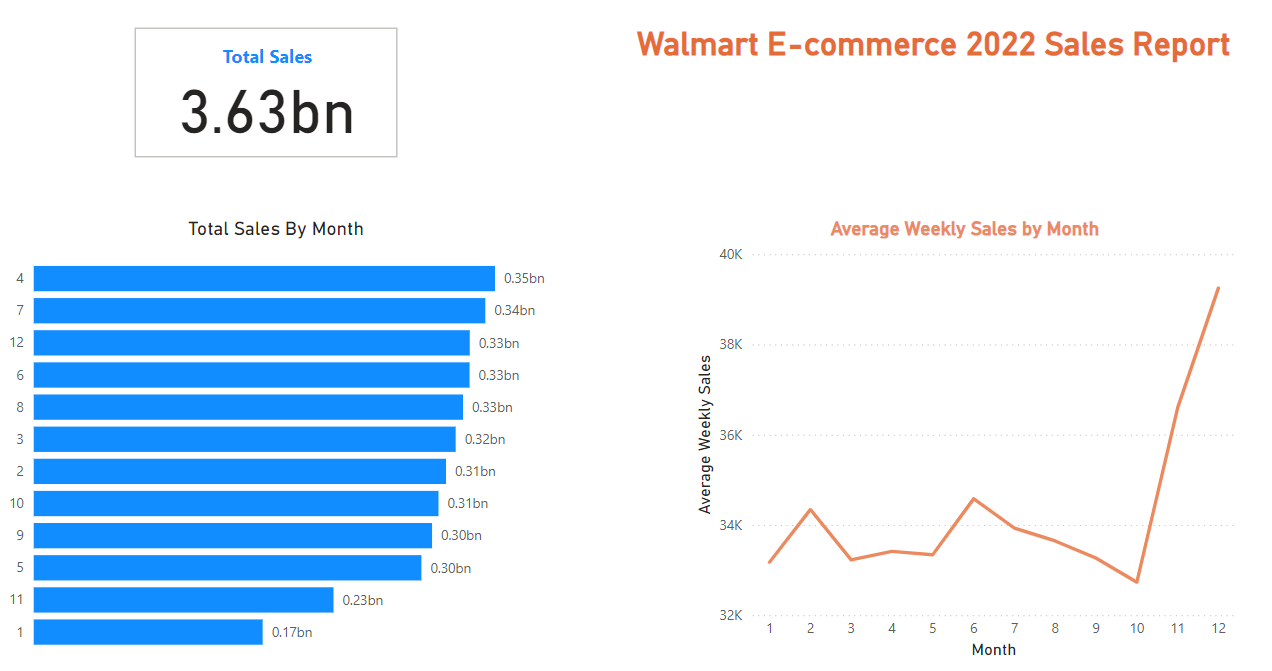

This screenshot's page, from the dashboard's own definition file:
{"tool":"powerbi","page":{"name":"Page 1","canvas":[1280,720],"ordinal":0},"visuals":[{"type":"clusteredBarChart","title":"Total Sales By Month","fields":{"Category":["clean_data.Month"],"Y":["Sum(clean_data.Weekly_Sales)"]},"box":[20.4,263.3,487.7,396.4],"z":0},{"type":"lineChart","fields":{"Y":["Sum(agg_data.Avg_Weekly_Sales)"],"Category":["agg_data.Month"]},"box":[631.3,263.3,487.7,396.4],"z":1},{"type":"cardVisual","fields":{"Data":["Sum(clean_data.Weekly_Sales)"]},"box":[133.9,90.4,243.8,125.9],"z":2},{"type":"textbox","box":[579,87.8,603,65.6],"z":3}]}

Visuals, with their boxes on the page's 1280x720 design canvas (x1, y1, x2, y2). These are canvas units, not pixel positions in the 1272x671 screenshot, which may show the page scaled, cropped or inside an application window:
"Total Sales By Month" clusteredBarChart: Rect(20, 263, 508, 660)
lineChart - Sum(agg_data.Avg_Weekly_Sales) x agg_data.Month: Rect(631, 263, 1119, 660)
cardVisual - Sum(clean_data.Weekly_Sales): Rect(134, 90, 378, 216)
textbox: Rect(579, 88, 1182, 153)
